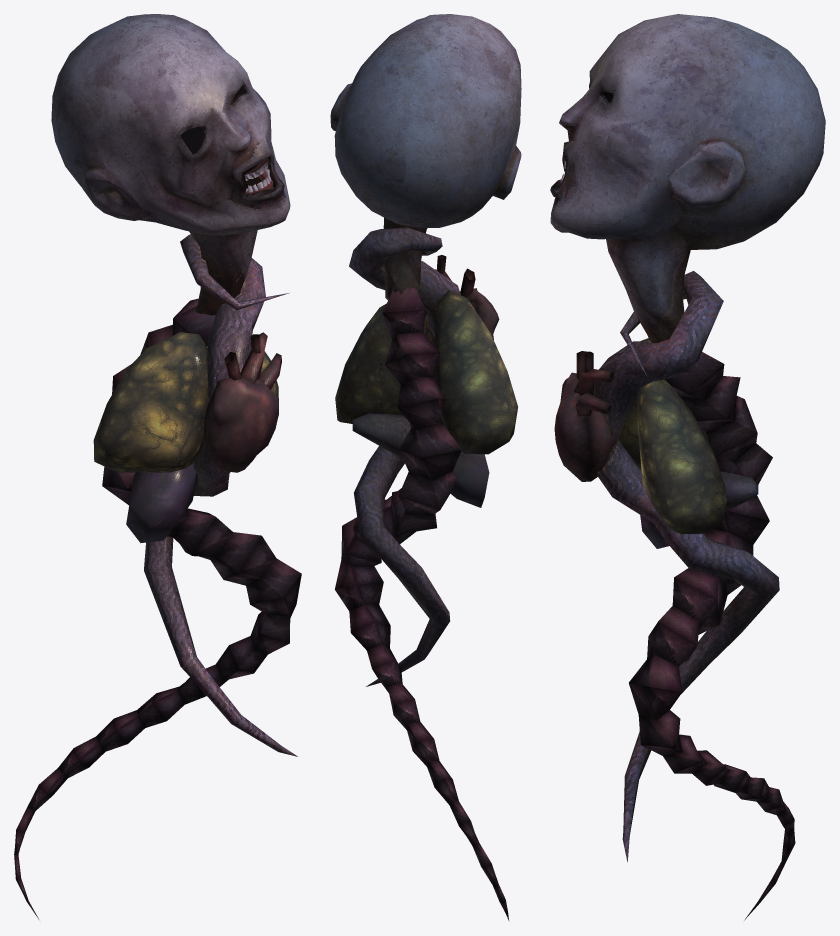
The model's file is Roku.glb.
3 views of the same model, side by side, from view 1: azimuth 30°, elevation 25°; view 2: azimuth 150°, elevation 25°; view 3: azimuth 270°, elevation 25° (orthographic). The views are drawn at different scales.
Visible parts, largest first — view 1: Roku; view 2: Roku; view 3: Roku.
Boxes of the visible parts, x1,y1,x2,y2 form: Roku: [14, 14, 301, 919]; Roku: [330, 14, 521, 921]; Roku: [550, 14, 825, 920].
Bounding box in the file's own units: 0.3366 × 1.26 × 0.332.
Materials: 1 (1 with a texture image).
